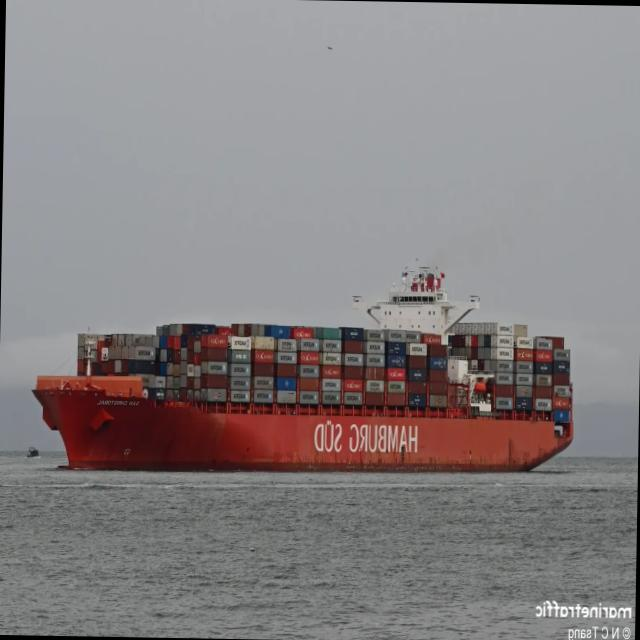Cargo: (33, 267, 572, 470)
